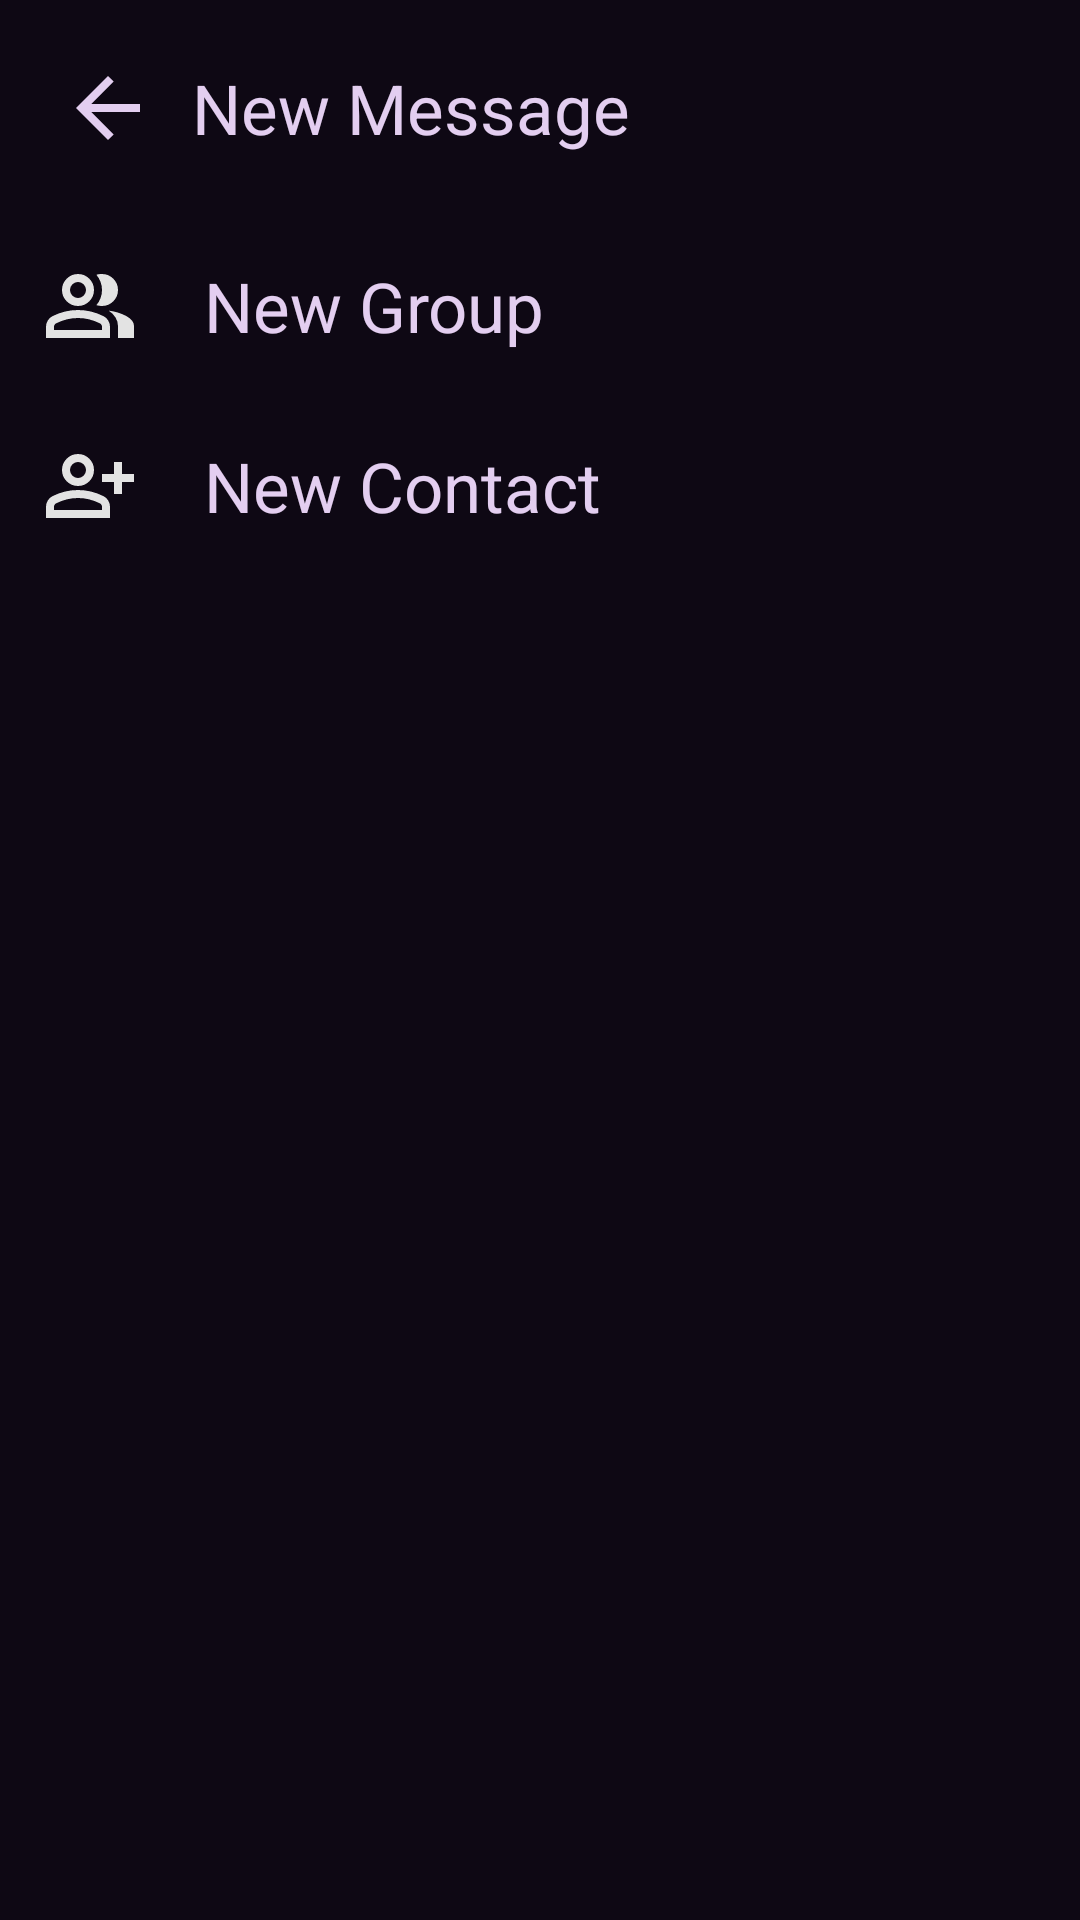

Where icons sit on this 1080 × 1920 app screen, as (x1, y1, x2, y2):
arrow back: (76, 76, 140, 140)
person add: (46, 454, 134, 518)
